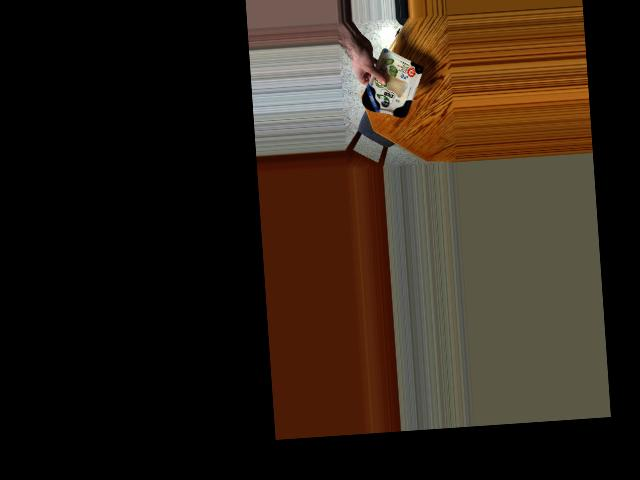cheese: (355, 53, 423, 120)
